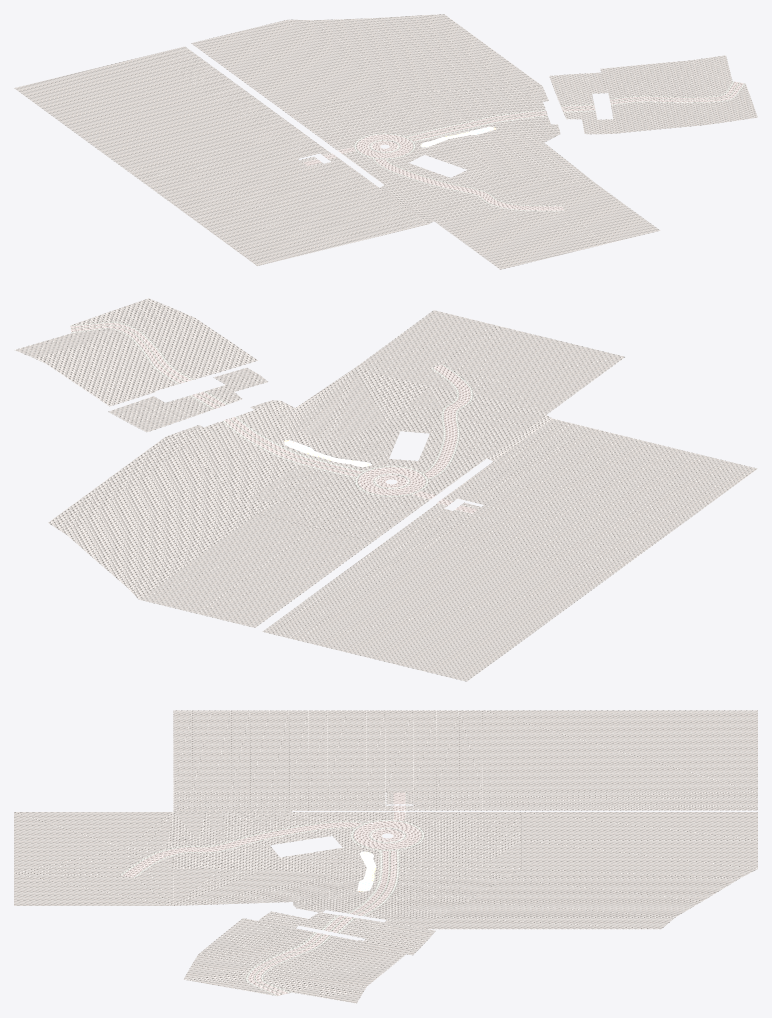
3 views of the same model, one above another, from view 1: azimuth 30°, elevation 25°; view 2: azimuth 150°, elevation 25°; view 3: azimuth 270°, elevation 25° (orthographic). The views are drawn at different scales.
Visible parts, largest first — view 1: SM_ground_01_LOD0; view 2: SM_ground_01_LOD0; view 3: SM_ground_01_LOD0.
Boxes of the visible parts, x1,y1,x2,y2 form: SM_ground_01_LOD0: [14, 14, 757, 269]; SM_ground_01_LOD0: [14, 298, 757, 681]; SM_ground_01_LOD0: [14, 710, 757, 1003].
Size of the model in its own units: 24703 by 24291 by 1042.
5 materials, 4 textured.
